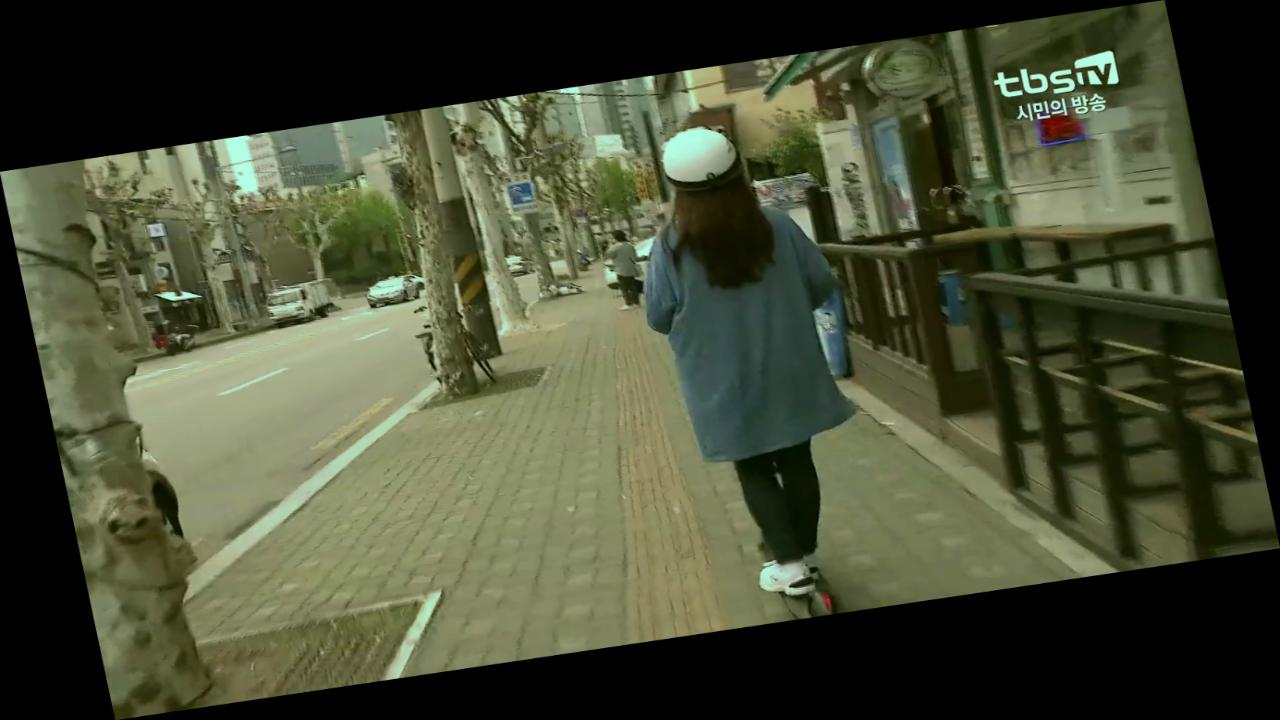helmet: (608, 106, 914, 632)
